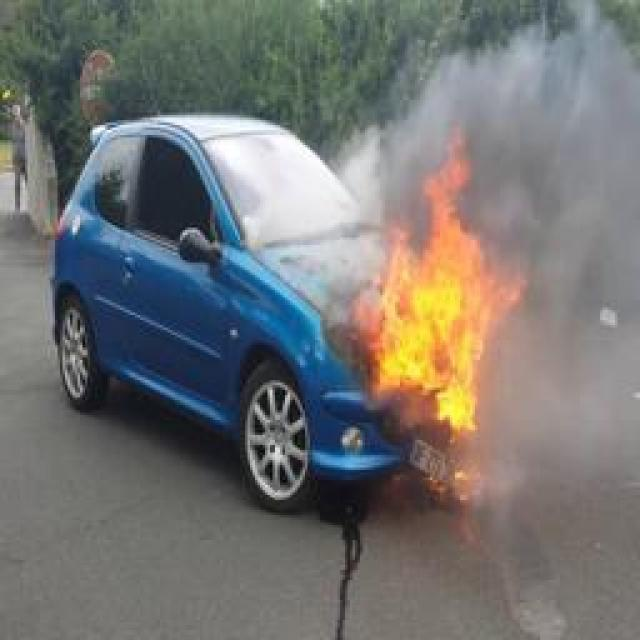Fire: (348, 125, 524, 430)
